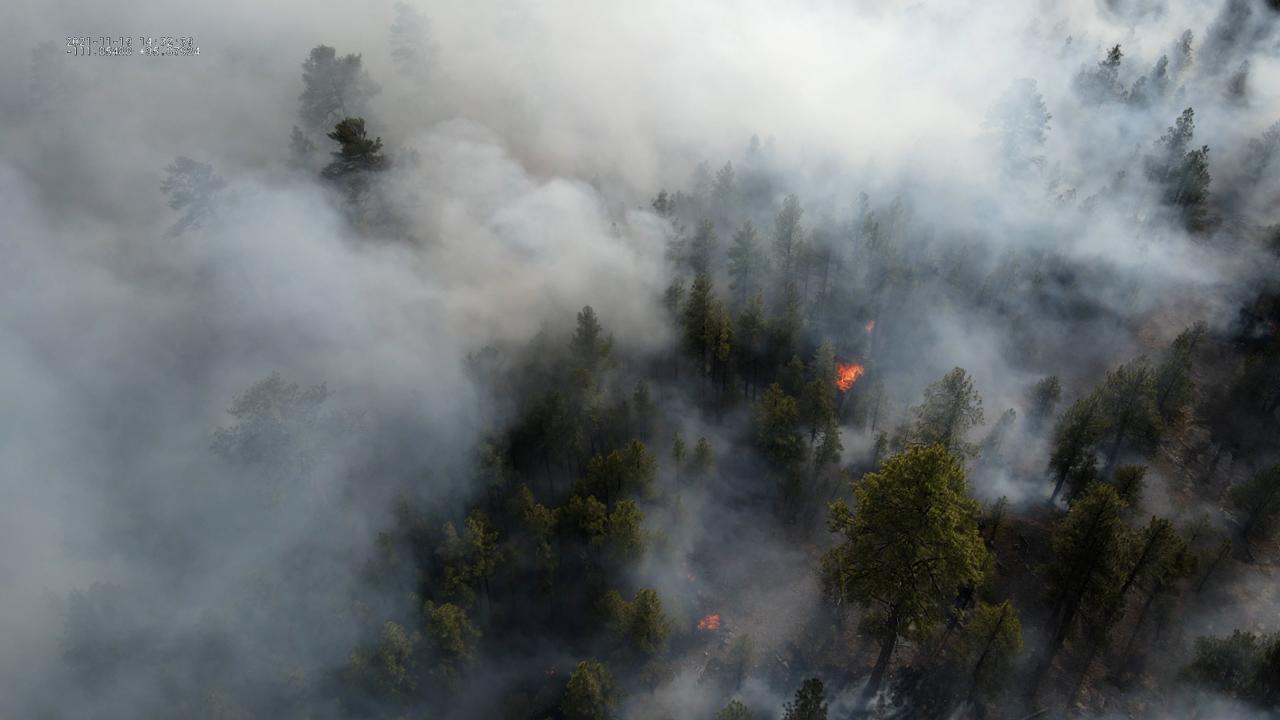fire: (833, 361, 866, 394), (695, 612, 722, 632), (862, 319, 877, 334)
smoke: (0, 0, 1280, 720)
